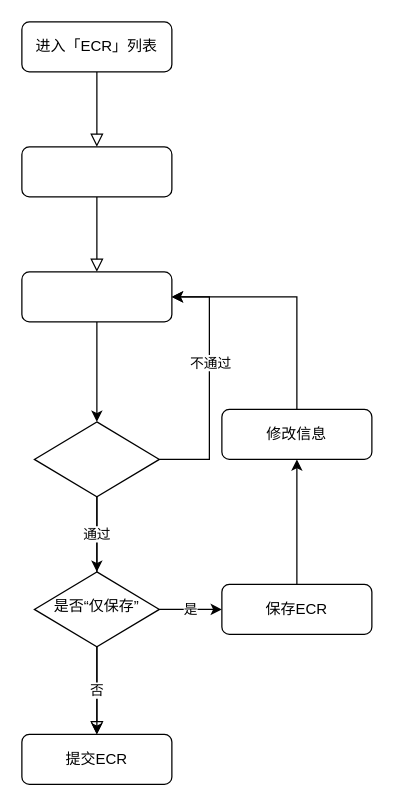
This 394x806 diagram has some shape labels left out. The shapes that lost their labels are listed below. From the top down, each one's centre as x and y in pixels, then its label:
At (x=96, y=171): "新建ECR".
At (x=96, y=296): "填写信息".
At (x=96, y=459): "检查完整性".
